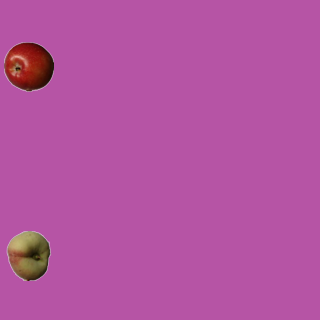Apple Braeburn: (3, 41, 53, 91)
Peach Flat: (3, 230, 53, 280)
